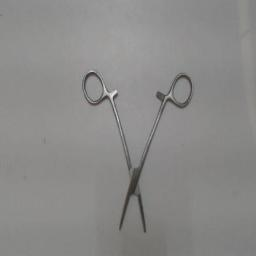Mayo Needle Holder: (79, 66, 195, 238)
